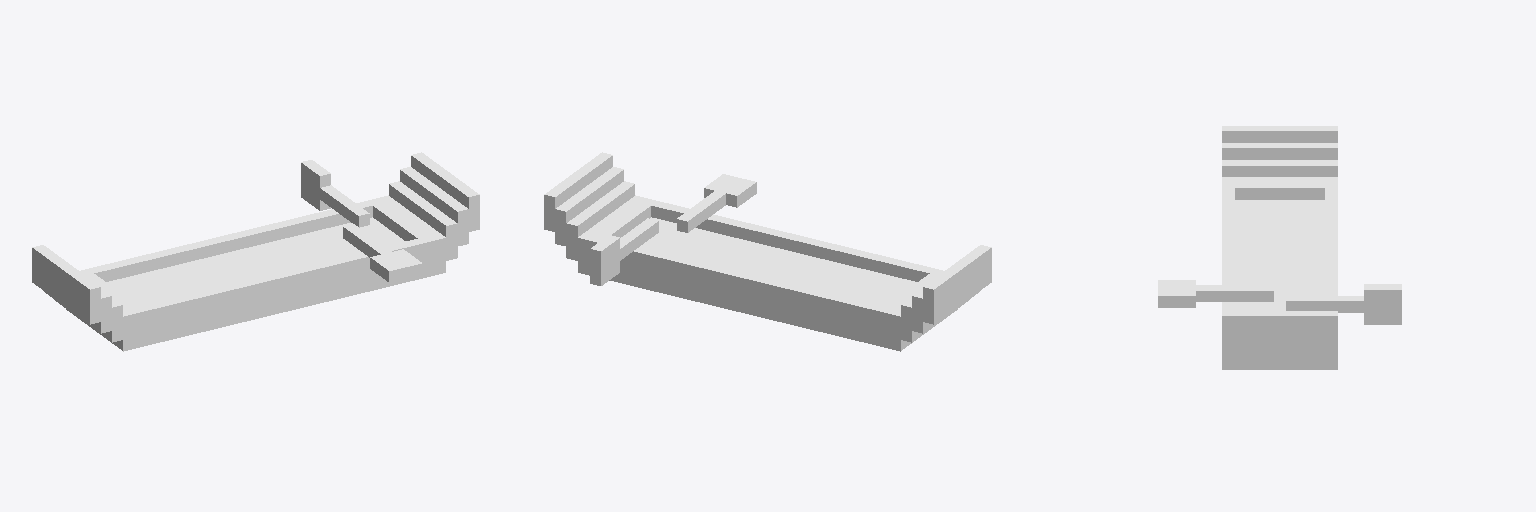
Rendered from log_1.obj.
The picture shows the model from 3 angles: view 1: azimuth 30°, elevation 25°; view 2: azimuth 150°, elevation 25°; view 3: azimuth 270°, elevation 25°; orthographic projection.
Parts seen in each view (by area): view 1: object 1; view 2: object 1; view 3: object 1.
Part boxes in pixels (x1,y1,x2,y2): object 1: (32, 152, 479, 351); object 1: (544, 152, 991, 351); object 1: (1158, 126, 1401, 369).
Size of the model in its own units: 3.5 by 0.6 by 1.9.